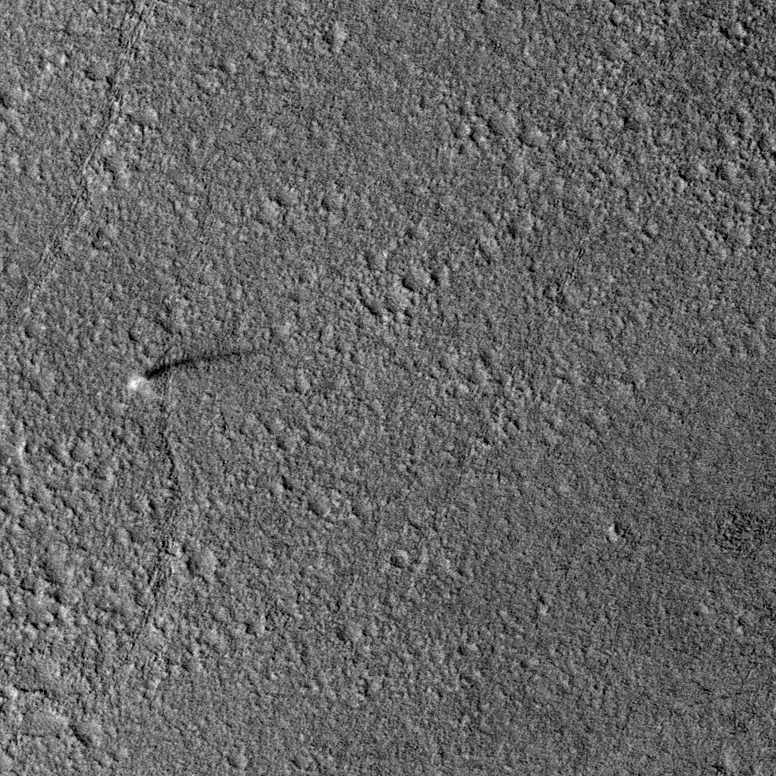dust_devil: (124, 346, 262, 394)
